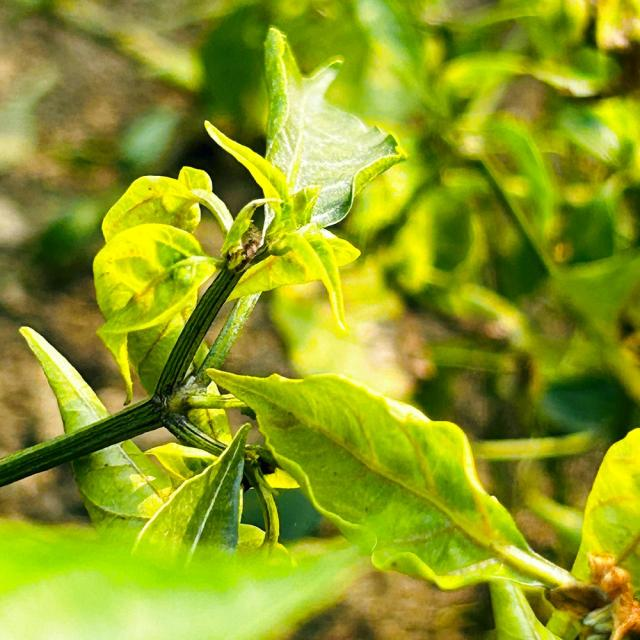Chilli_Leaf_Curl: (2, 23, 636, 637), (90, 25, 407, 411), (203, 366, 594, 638), (16, 324, 174, 536), (260, 25, 407, 230), (91, 221, 222, 404), (545, 426, 639, 638), (129, 420, 253, 570)
